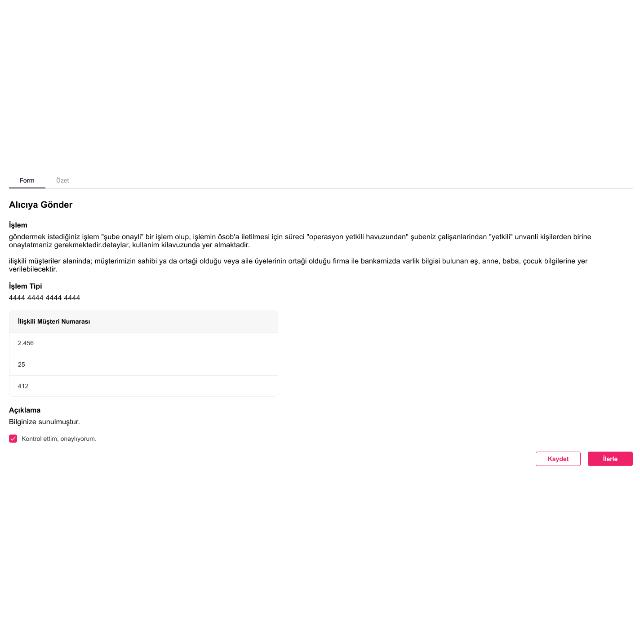QLabel: (8, 255, 588, 273), (9, 234, 598, 248), (21, 434, 97, 442), (8, 417, 80, 425), (7, 200, 74, 208), (8, 294, 82, 300), (6, 280, 44, 290), (8, 405, 42, 413), (8, 220, 28, 228), (18, 176, 36, 184), (602, 454, 618, 462), (548, 455, 568, 461), (54, 175, 70, 182)
VBtn: (536, 450, 580, 466), (588, 450, 632, 466)
VCheckbox: (8, 433, 18, 443)
VDataTable: (8, 308, 280, 398)
VTabs: (0, 166, 640, 474)
